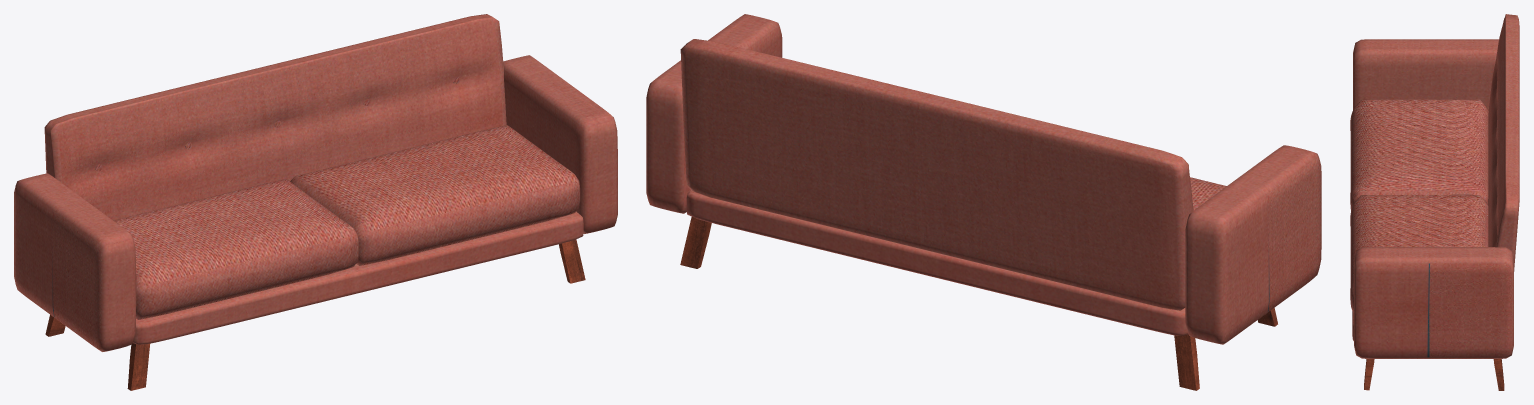
File: sohva.fbx
The picture shows the model from 3 angles, left to right: view 1: azimuth 30°, elevation 25°; view 2: azimuth 150°, elevation 25°; view 3: azimuth 270°, elevation 25°; orthographic projection. The views are drawn at different scales.
Parts seen in each view (by area): view 1: couch; view 2: couch; view 3: couch.
Part boxes in pixels (<box>): couch: <box>14,14,617,390</box>; couch: <box>646,14,1321,390</box>; couch: <box>1350,14,1519,390</box>.
Size of the model in its own units: 21.51 by 8.28 by 6.88.
